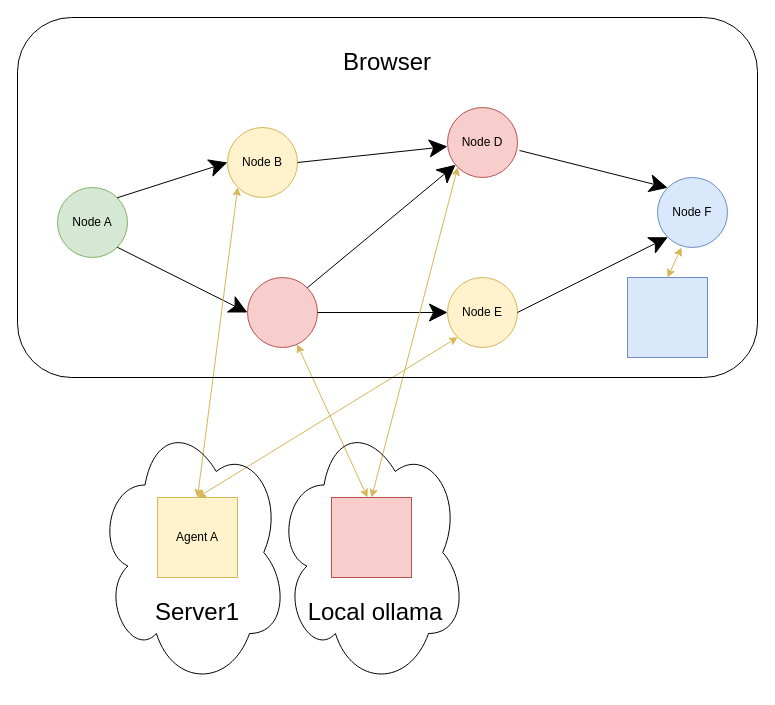
Some shapes in this 775 by 705 pixel diagram are drawn without their labels. The shapes that lost their labels are listed below. From the top down, each one's centre as x and y in pixels, then its label:
At point (282, 312): "Node C".
At point (667, 317): "Agent C".
At point (371, 537): "Agent B".
